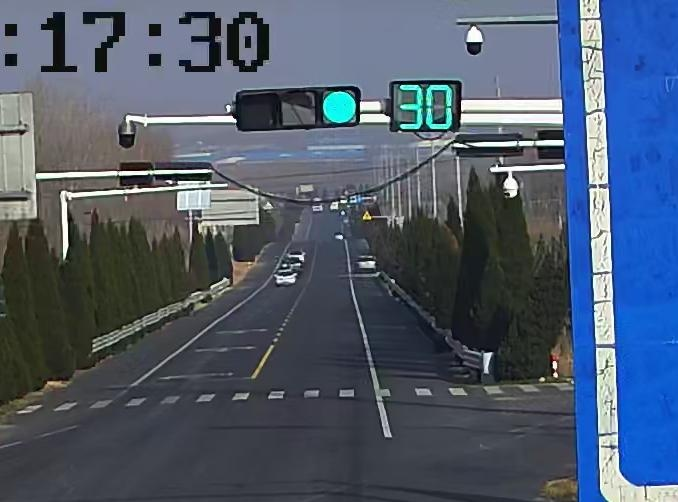green: (322, 89, 357, 124)
greentime: (396, 80, 456, 131)
